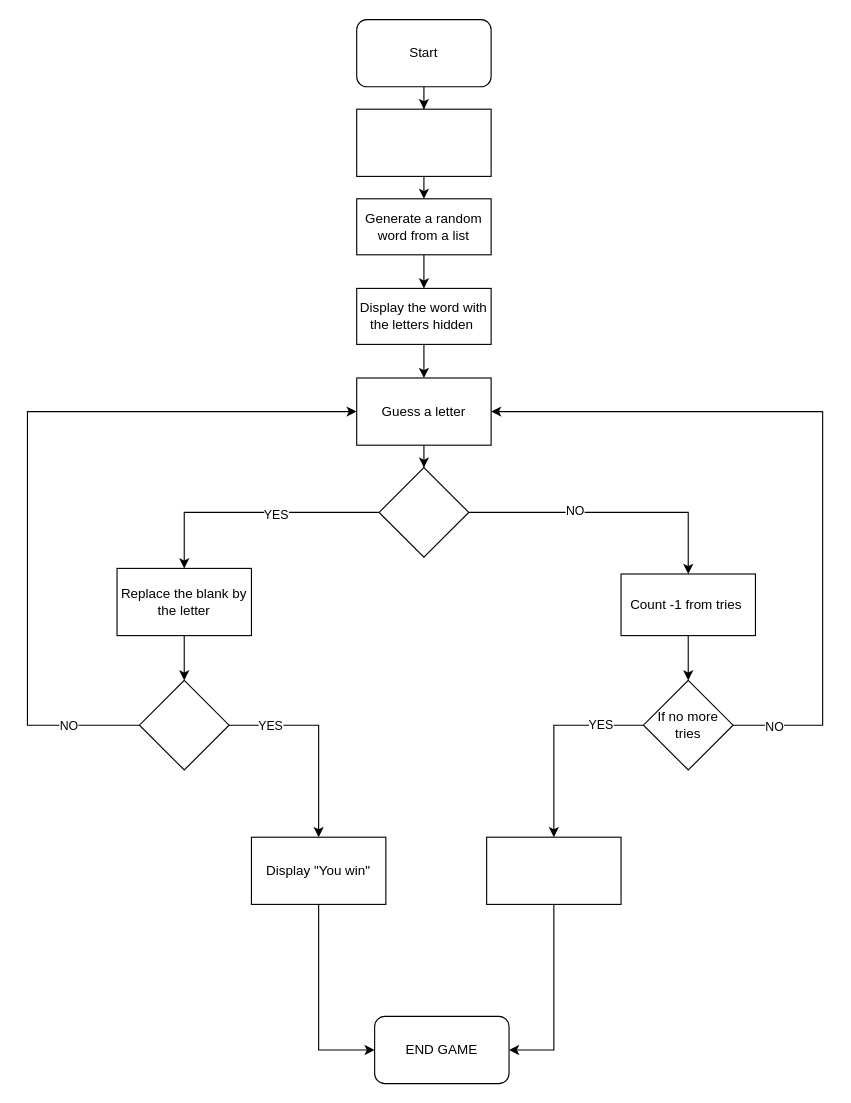
The diagram is 851 pixels wide and 1103 high, and some of its shapes have lost their labels. The centre of each missing label's shape, as x and y in pixels:
Display "You lose": [553,870]
If all of tha blanks are filled: [183,724]
the letter is in the word: [423,511]
Welcome and instructions of the game message: [423,142]
